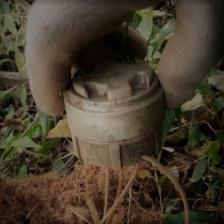M14: (66, 66, 158, 164)
